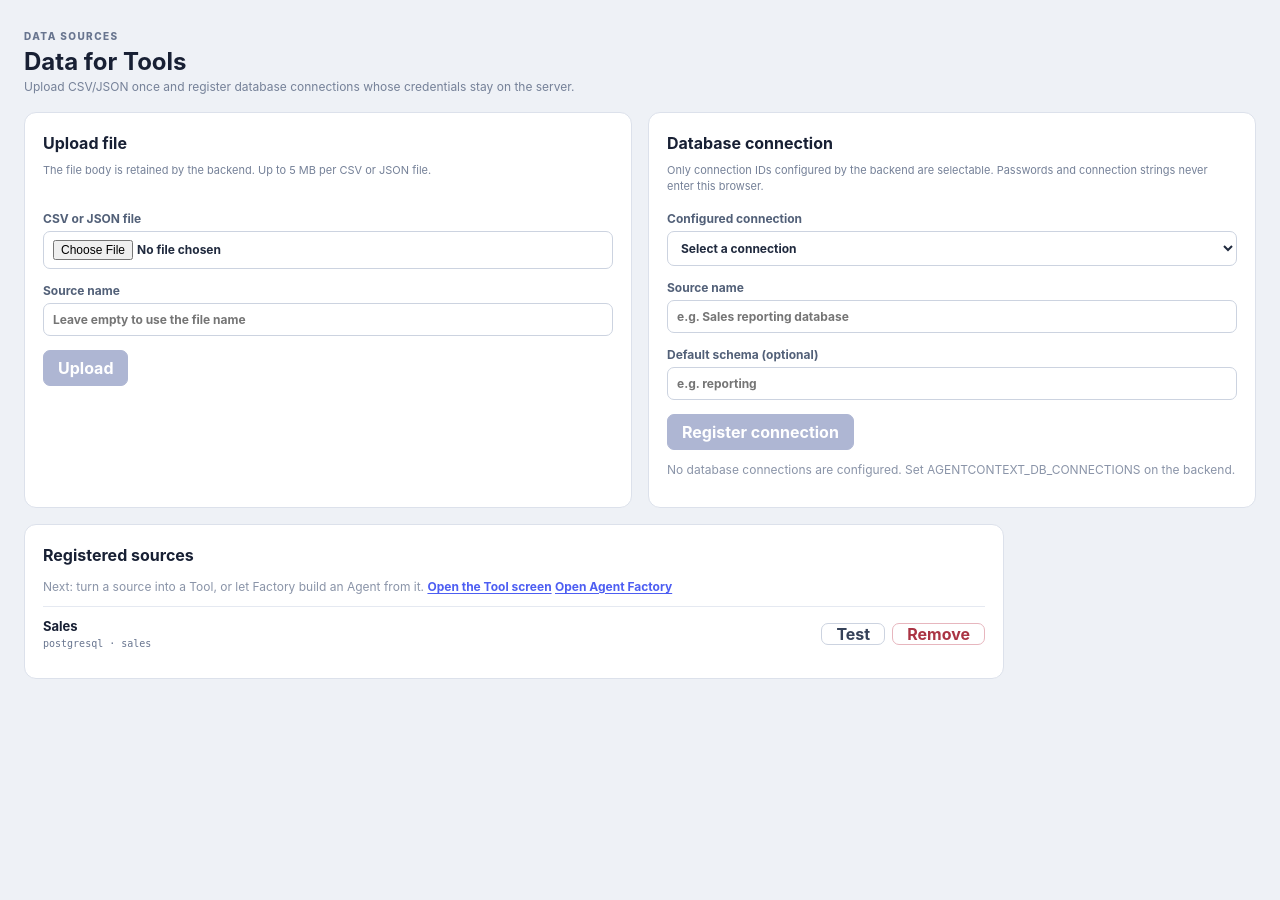
Test case: DataSourcesPage › ソース名を空にするとファイル名を使う旨のヒントを表示し、削除確認をキャンセルできる
Check: the text "Sales" is shown, box [43,618,78,634]
Click the button "Remove": [939, 634] box [892,622,985,644]
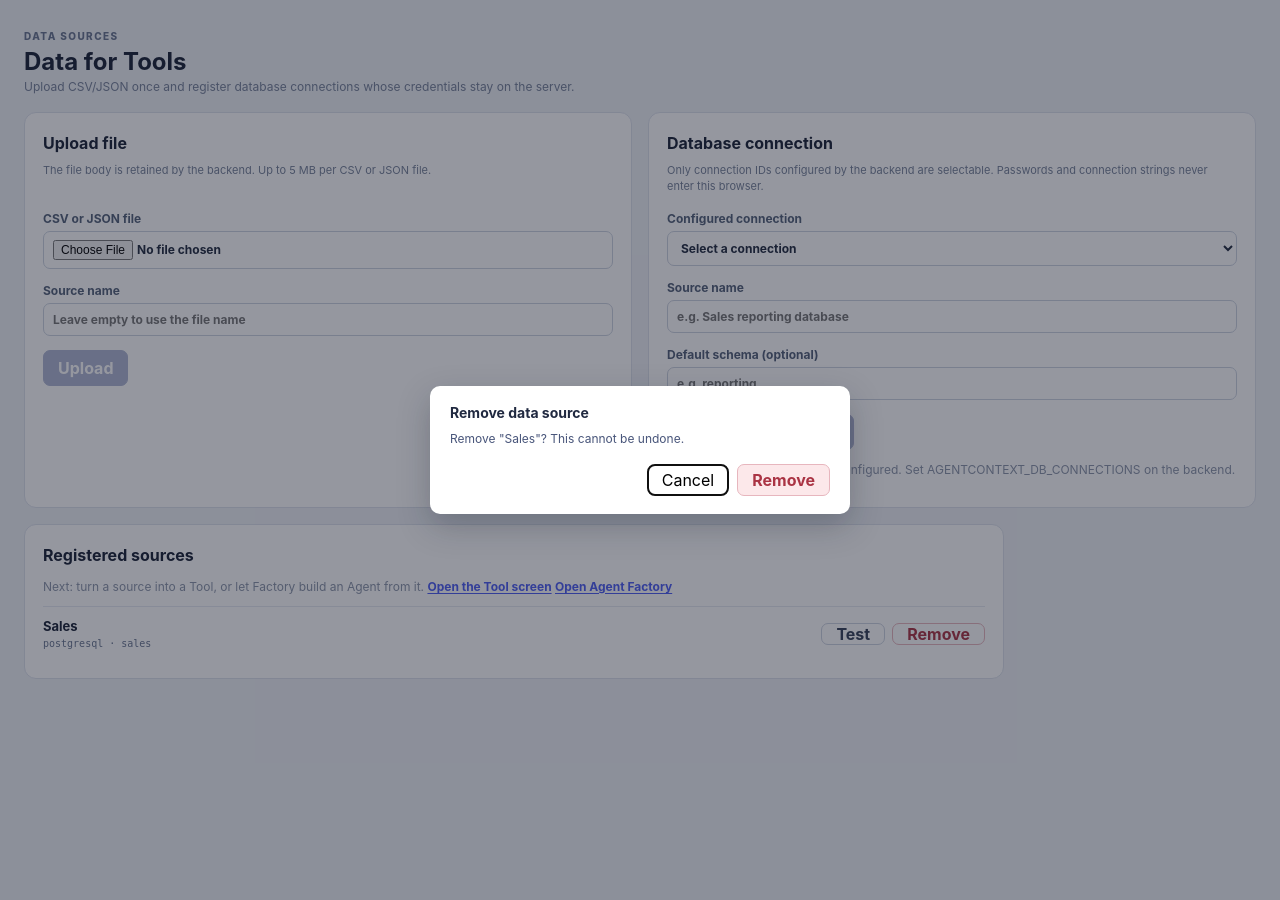
Click the button "Cancel": [688, 480] box [647,464,729,496]
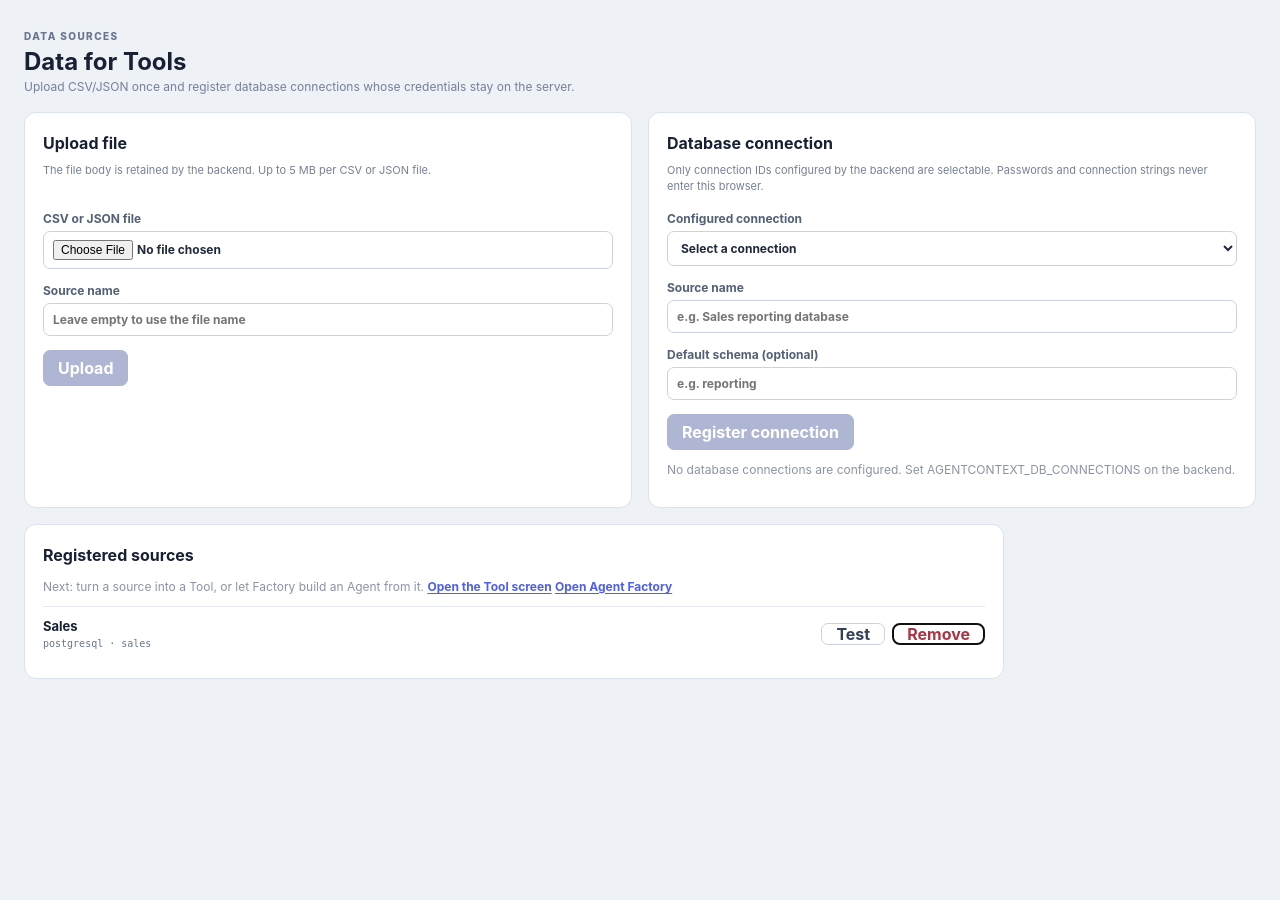
Check: the dialog is gone
